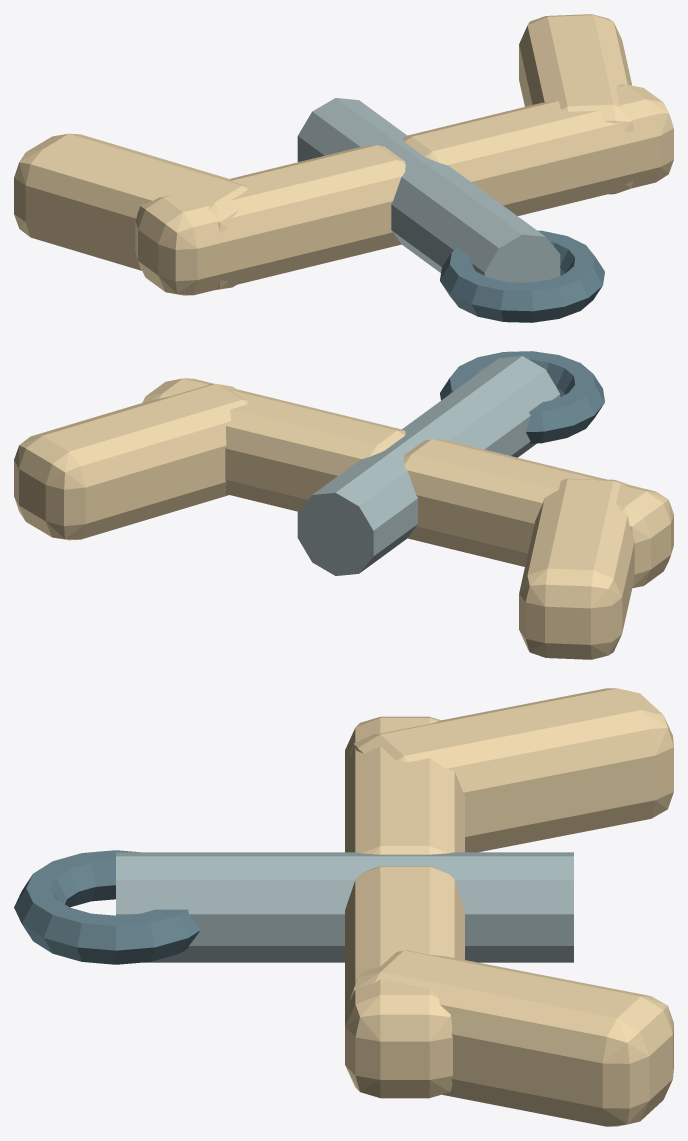
The model's file is weapon_0.glb.
3 renders of one model, top to bottom at view 1: azimuth 30°, elevation 25°; view 2: azimuth 150°, elevation 25°; view 3: azimuth 270°, elevation 25°, orthographic. The views are drawn at different scales.
Visible parts, largest first — view 1: weapon_0_Diver_brass, weapon_0_Ocean_basalt, weapon_0_Deep_ocean_rubber; view 2: weapon_0_Diver_brass, weapon_0_Ocean_basalt, weapon_0_Deep_ocean_rubber; view 3: weapon_0_Diver_brass, weapon_0_Ocean_basalt, weapon_0_Deep_ocean_rubber.
Part boxes in pixels (x1=…): weapon_0_Diver_brass: x1=14, y1=14, x2=673, y2=295; weapon_0_Ocean_basalt: x1=297, y1=98, x2=560, y2=282; weapon_0_Deep_ocean_rubber: x1=440, y1=230, x2=604, y2=322; weapon_0_Diver_brass: x1=14, y1=378, x2=673, y2=659; weapon_0_Ocean_basalt: x1=297, y1=356, x2=560, y2=575; weapon_0_Deep_ocean_rubber: x1=440, y1=351, x2=604, y2=443; weapon_0_Diver_brass: x1=345, y1=688, x2=673, y2=1126; weapon_0_Ocean_basalt: x1=116, y1=852, x2=573, y2=962; weapon_0_Deep_ocean_rubber: x1=14, y1=850, x2=200, y2=964.
Bounding box in the file's own units: 1.2 × 0.17 × 0.9367.
